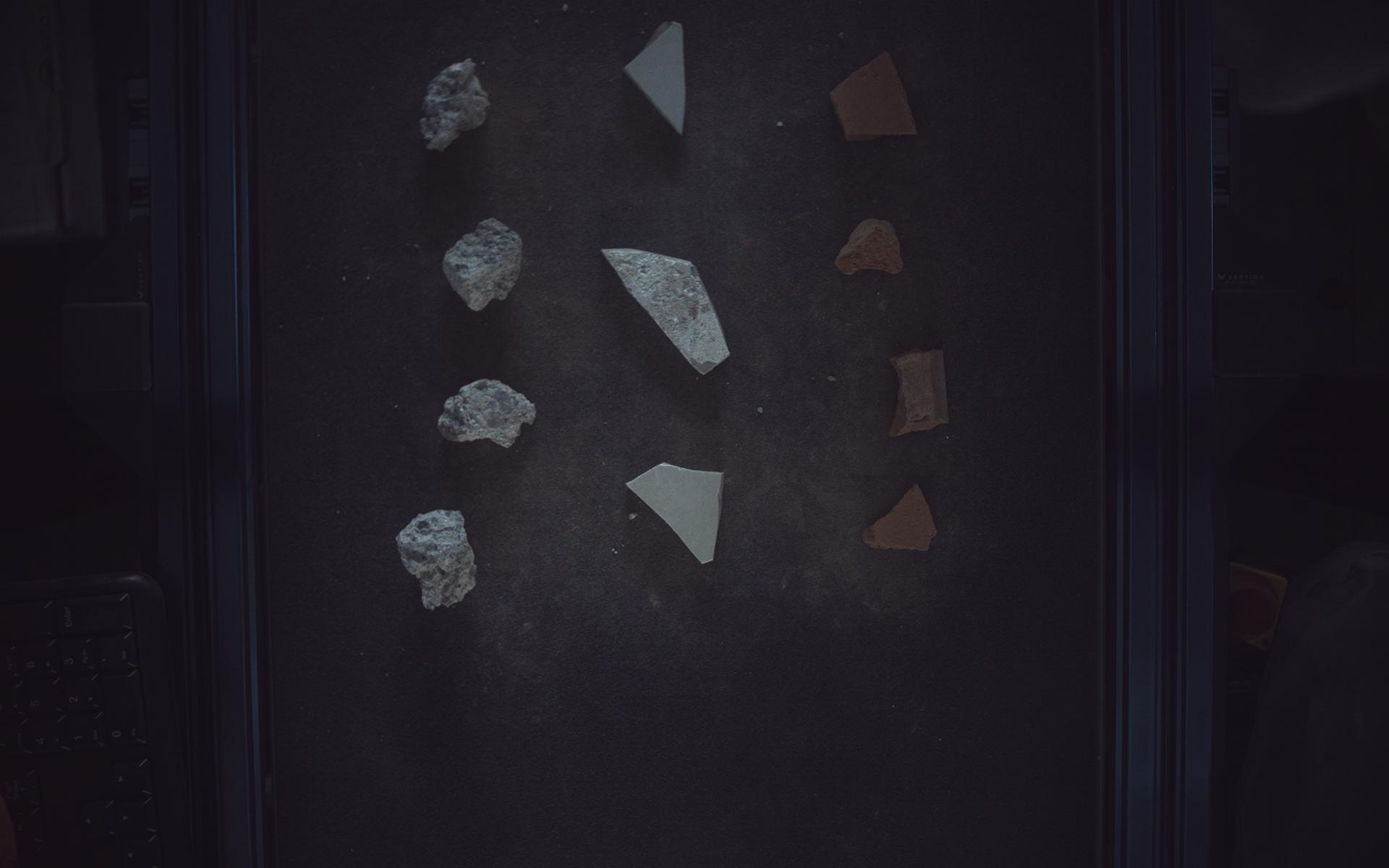brick: (831, 51, 918, 140), (891, 349, 951, 437), (865, 485, 938, 551), (836, 218, 905, 274)
concrete: (396, 510, 476, 610), (443, 217, 522, 310), (438, 379, 536, 448), (420, 57, 490, 150)
tile: (604, 249, 731, 375), (627, 463, 724, 564), (624, 20, 687, 134)
